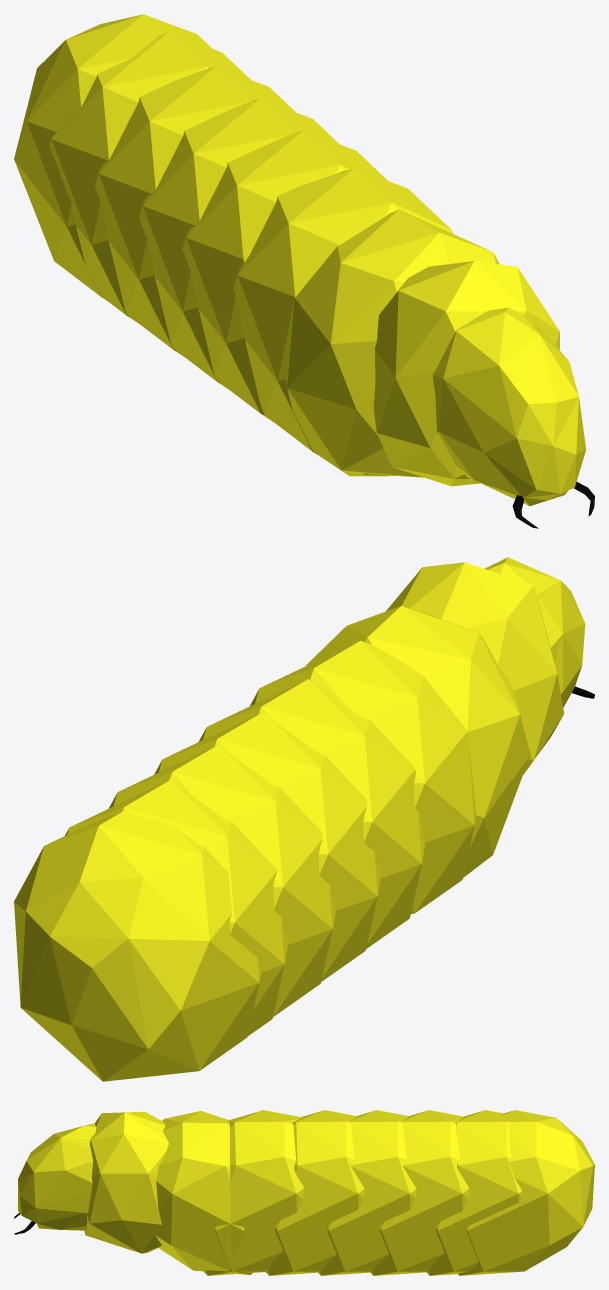
The model's file is lava.glb.
3 views of the same model, one above another, from view 1: azimuth 30°, elevation 25°; view 2: azimuth 150°, elevation 25°; view 3: azimuth 270°, elevation 25° (orthographic). The views are drawn at different scales.
Parts seen in each view (by area): view 1: Cube.007, Cube.005, Body.002, Cube.007_Material.001_0.001, Cube.007_Material.001_0.002, Cube.007_Material.001_0.004, Cube.007_Material.001_0.003, Cube.007_Material.001_0.005, Cube.007_Material.001_0.006; view 2: Cube.007_Material.001_0.006, Cube.007_Material.001_0.001, Cube.007, Cube.007_Material.001_0.004, Cube.007_Material.001_0.002, Cube.007_Material.001_0.003, Body.002, Cube.007_Material.001_0.005, Cube.005; view 3: Cube.007_Material.001_0.006, Cube.007, Cube.007_Material.001_0.001, Body.002, Cube.007_Material.001_0.002, Cube.007_Material.001_0.004, Cube.007_Material.001_0.003, Cube.007_Material.001_0.005, Cube.005.
Part boxes in pixels (box(x1,y1,x2,y2)): Cube.007: box(286, 209, 499, 477); Cube.005: box(432, 307, 586, 505); Body.002: box(373, 261, 559, 486); Cube.007_Material.001_0.001: box(233, 168, 452, 476); Cube.007_Material.001_0.002: box(182, 131, 387, 421); Cube.007_Material.001_0.004: box(94, 67, 295, 356); Cube.007_Material.001_0.003: box(139, 99, 339, 388); Cube.007_Material.001_0.005: box(49, 32, 250, 322); Cube.007_Material.001_0.006: box(14, 14, 211, 300); Cube.007_Material.001_0.006: box(14, 810, 260, 1081); Cube.007_Material.001_0.001: box(250, 640, 476, 913); Cube.007: box(306, 606, 530, 877); Cube.007_Material.001_0.004: box(109, 744, 335, 1016); Cube.007_Material.001_0.002: box(198, 679, 425, 948); Cube.007_Material.001_0.003: box(154, 712, 380, 981); Body.002: box(386, 562, 564, 774); Cube.007_Material.001_0.005: box(65, 779, 287, 1035); Cube.005: box(484, 557, 585, 707); Cube.007_Material.001_0.006: box(458, 1110, 594, 1275); Cube.007: box(155, 1111, 252, 1274); Cube.007_Material.001_0.001: box(203, 1110, 304, 1275); Body.002: box(84, 1111, 168, 1253); Cube.007_Material.001_0.002: box(265, 1110, 364, 1275); Cube.007_Material.001_0.004: box(370, 1110, 469, 1275); Cube.007_Material.001_0.003: box(318, 1110, 416, 1275); Cube.007_Material.001_0.005: box(426, 1110, 522, 1275); Cube.005: box(18, 1123, 96, 1230).
Bounding box in the file's own units: 3.17 × 4.3 × 14.06.
